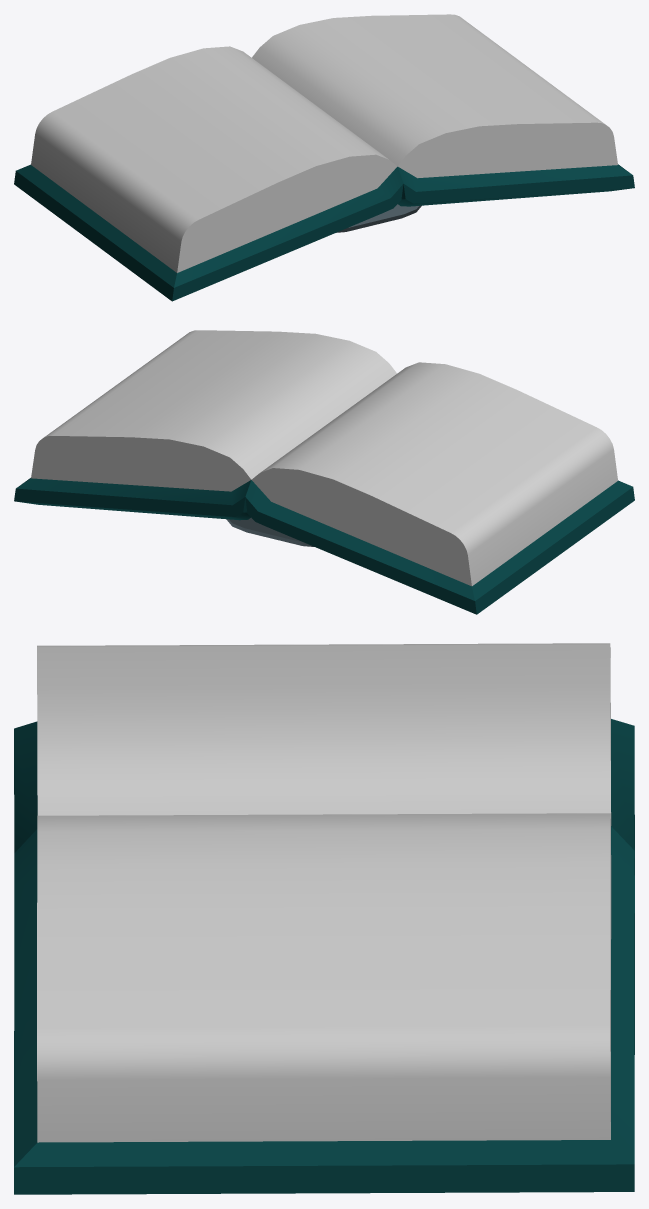
Rendered from bookOpenA.obj.
3 views of the same model, one above another, from view 1: azimuth 30°, elevation 25°; view 2: azimuth 150°, elevation 25°; view 3: azimuth 270°, elevation 25° (orthographic). The views are drawn at different scales.
Visible parts, largest first — view 1: bookOpenA_Cube.4089; view 2: bookOpenA_Cube.4089; view 3: bookOpenA_Cube.4089.
Boxes of the visible parts, x1,y1,x2,y2 form: bookOpenA_Cube.4089: (14, 14, 634, 301); bookOpenA_Cube.4089: (14, 330, 634, 614); bookOpenA_Cube.4089: (14, 643, 634, 1194).
Size of the model in its own units: 0.7032 by 0.1569 by 0.4166.
